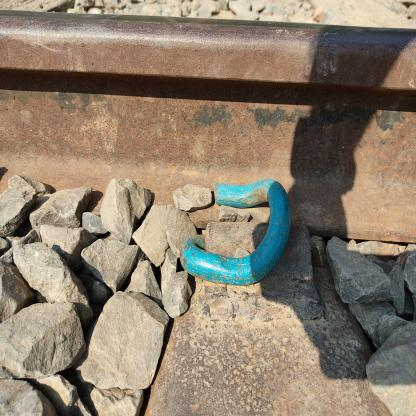Non Defective: (66, 103, 288, 293)
